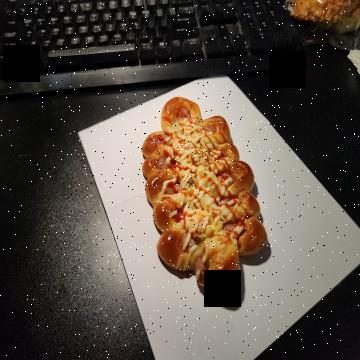pizza_bread: (143, 97, 272, 298)
